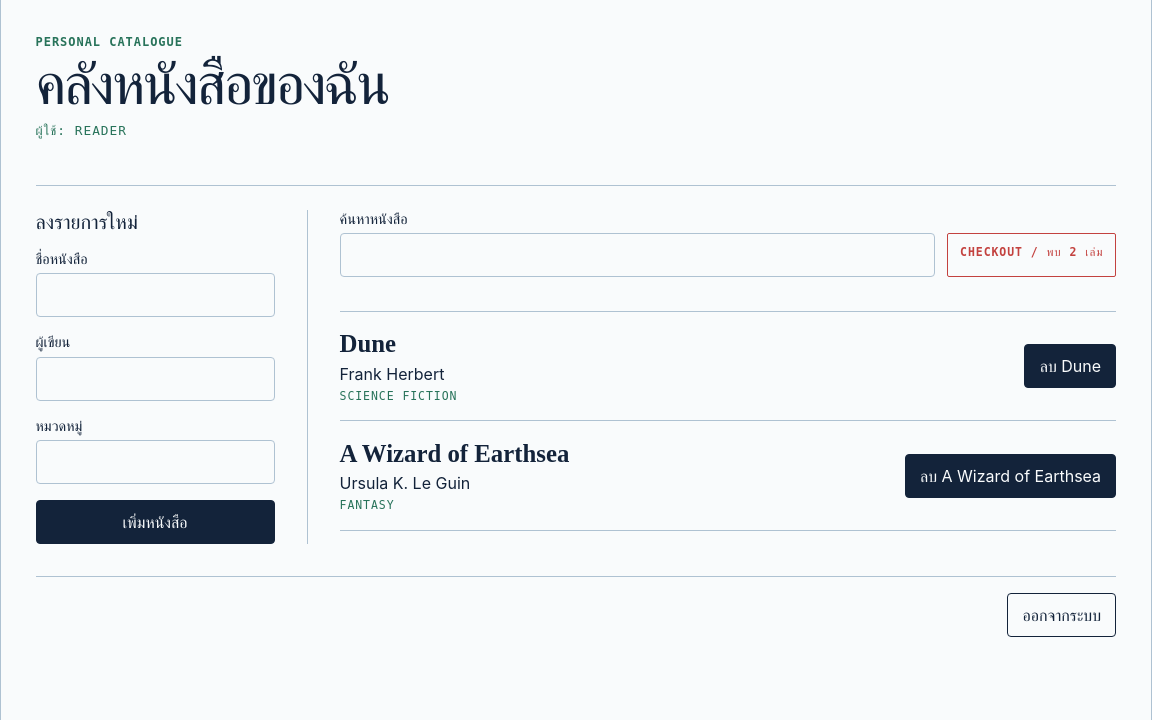
LibraryPage › deletes a book only after the server accepts the deletion
The width and height of the screenshot is (1152, 720).
Expected: the heading "Dune" is shown, [340,330,396,357]
Click the button "ลบ Dune": (1070, 366) [1024,344,1116,388]
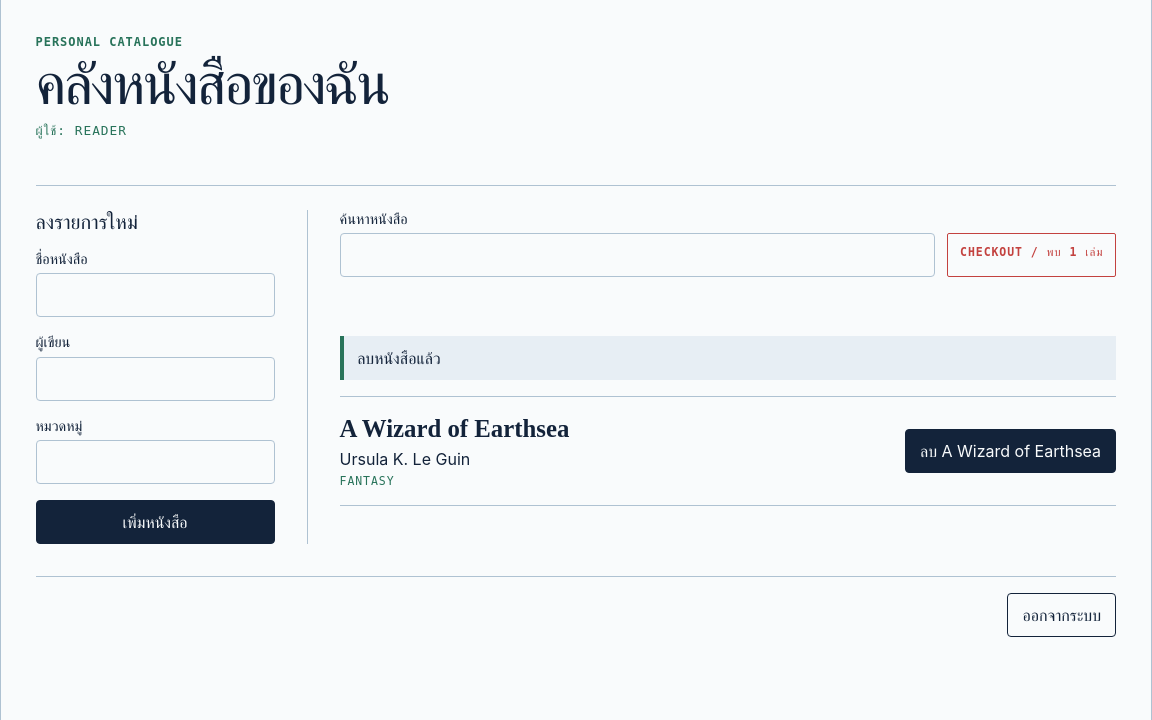
Expected: the heading "A Wizard of Earthsea" is shown, [340,415,569,442]
Expected: the text "ลบหนังสือแล้ว" is shown, [340,336,1116,380]
Expected: the heading "Dune" is gone
